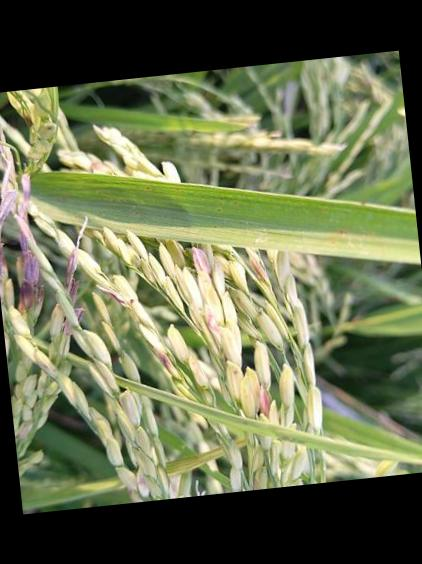Panicle Blight: (244, 253, 269, 289), (94, 284, 130, 308), (64, 247, 78, 304), (16, 173, 30, 222), (202, 299, 221, 335), (255, 382, 274, 417), (86, 153, 116, 173), (188, 247, 211, 273), (153, 347, 174, 374), (16, 280, 33, 313), (0, 188, 16, 221), (22, 255, 39, 286), (16, 229, 30, 260), (15, 420, 33, 441), (72, 307, 84, 326), (62, 315, 73, 335), (33, 284, 44, 303), (0, 125, 4, 154), (0, 244, 2, 274), (4, 332, 8, 343)
